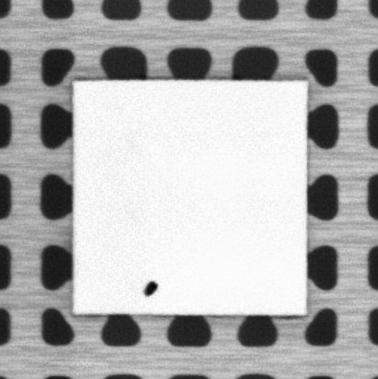DIE_INK: (141, 278, 160, 299)
